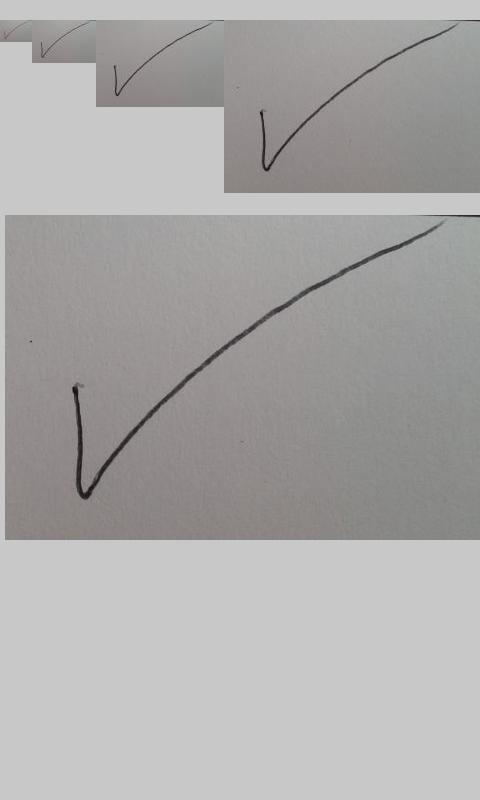check_box: (69, 224, 437, 500), (259, 25, 455, 172), (113, 23, 211, 96), (40, 23, 86, 58), (3, 23, 24, 39)
